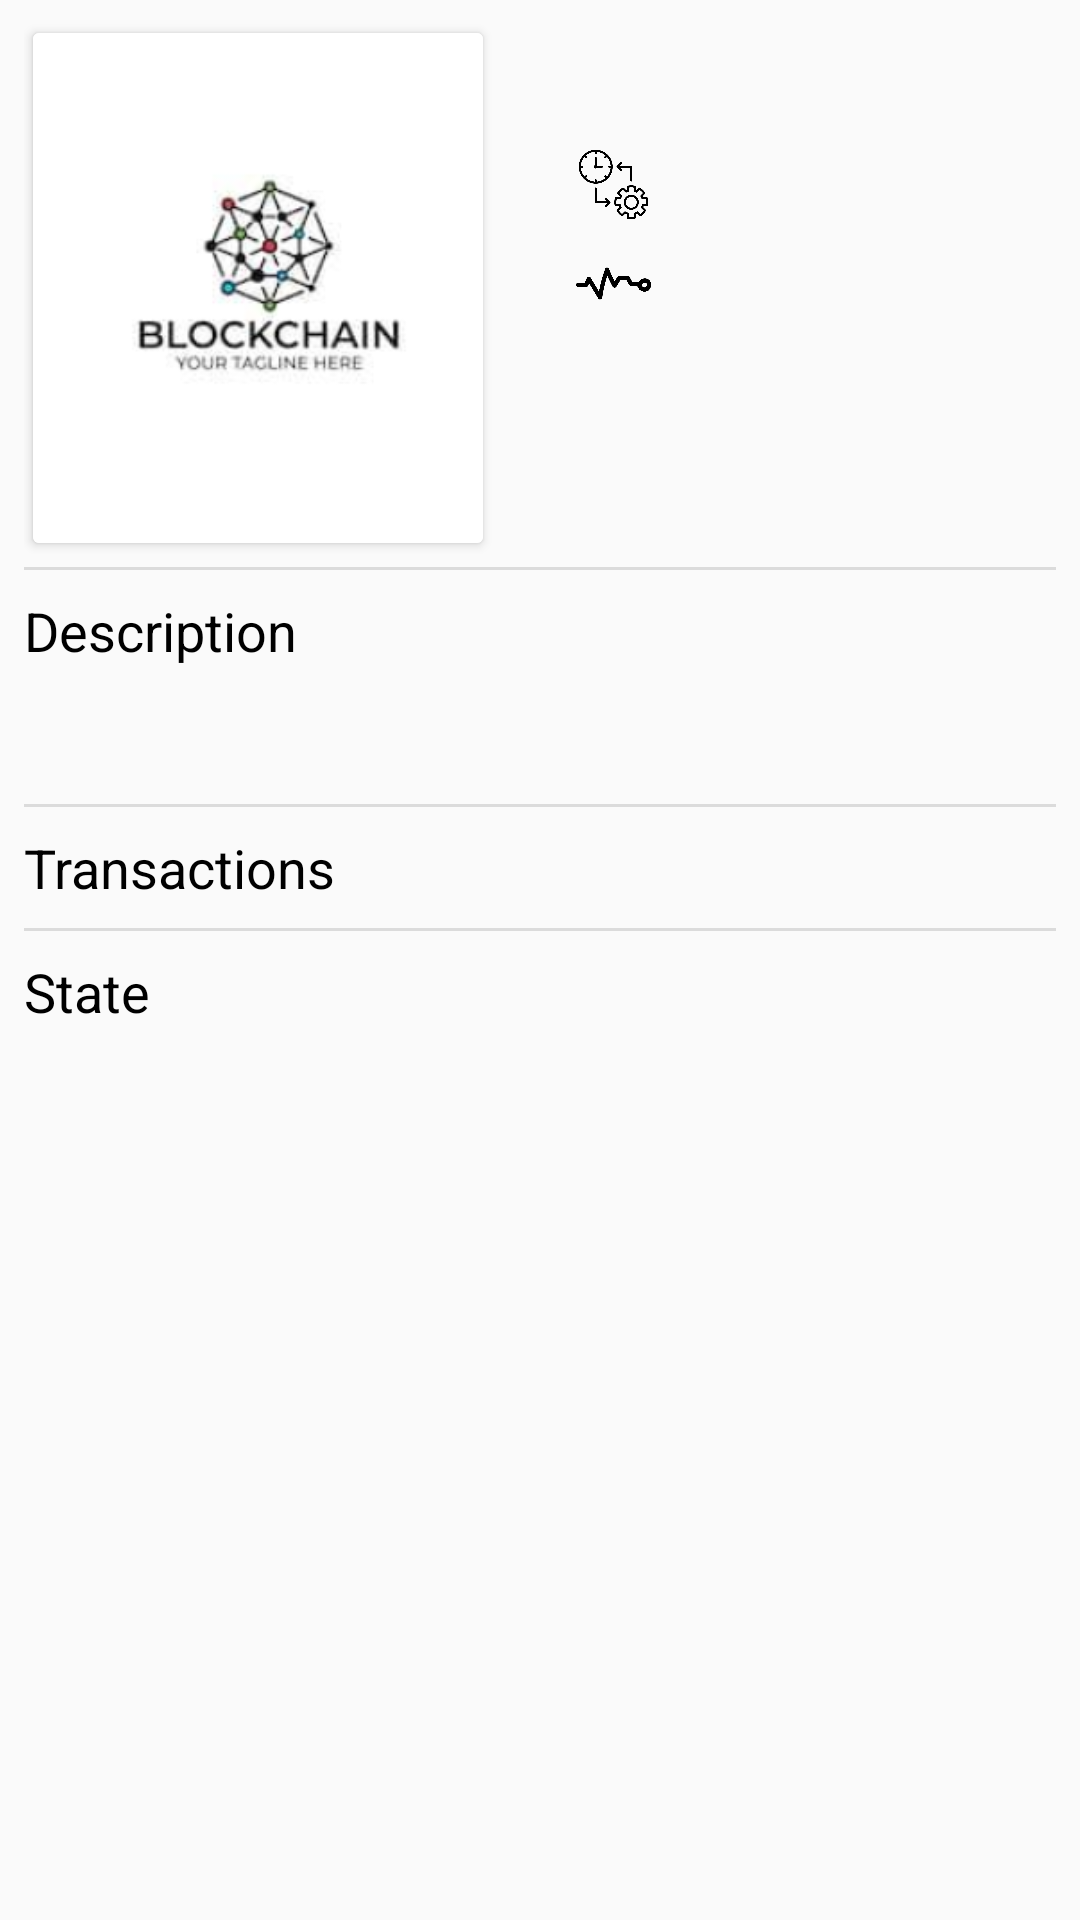

Named icons in this screenshot (1080px x 1920px) and their centers, [x,y]:
Period Icon: [613,184]
Status Icon: [613,283]
